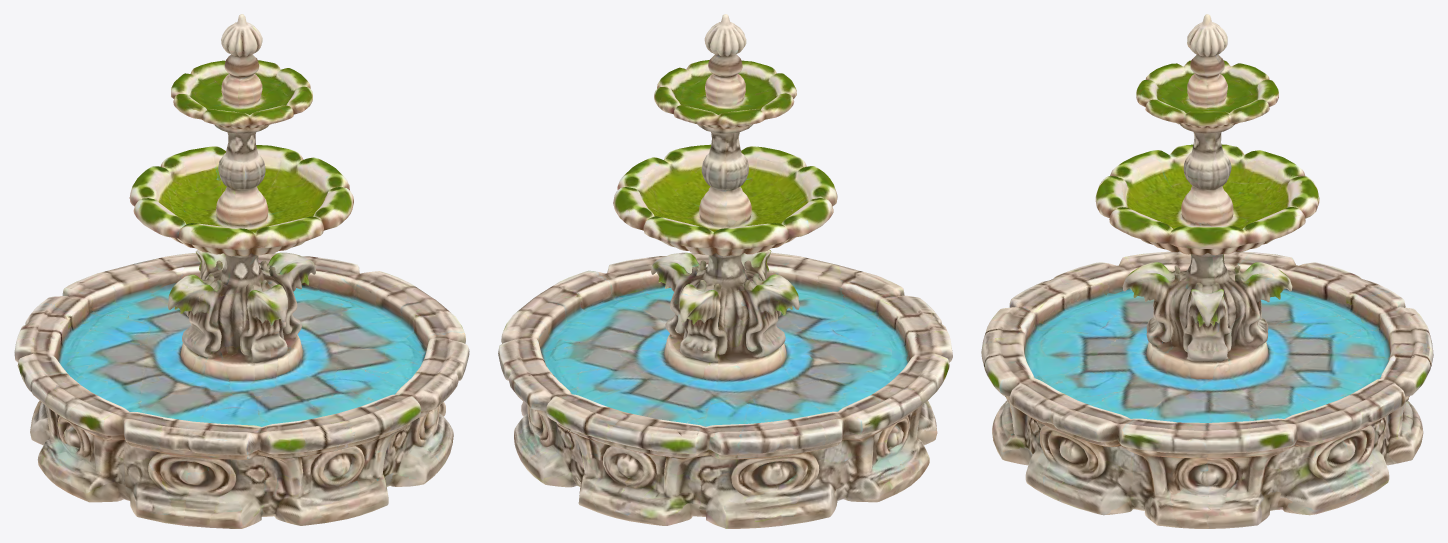
File: fountain.glb
The picture shows the model from 3 angles, left to right: view 1: azimuth 30°, elevation 25°; view 2: azimuth 150°, elevation 25°; view 3: azimuth 270°, elevation 25°; orthographic projection.
Bounding box in the file's own units: 1.83 × 1.9 × 1.83.
1 material, 1 textured.
